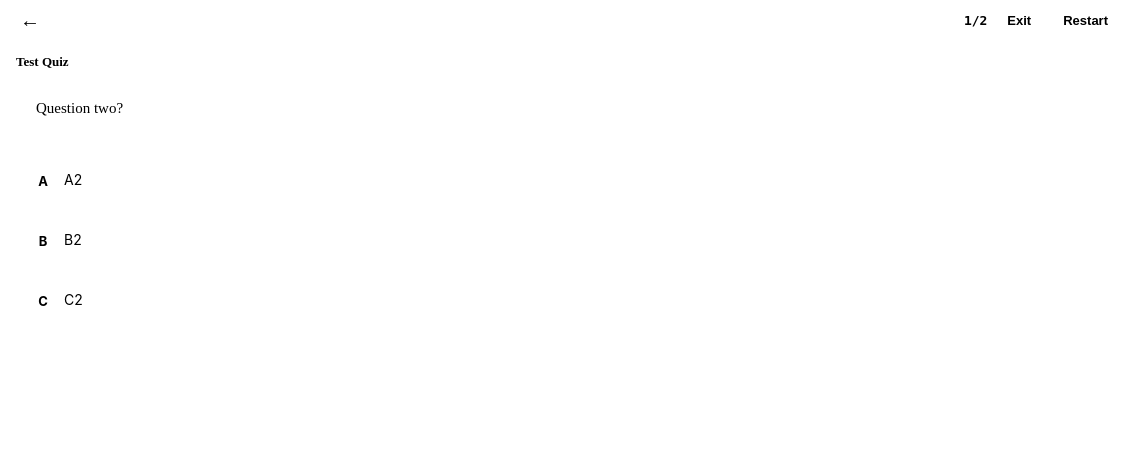
Test case: QuizEngine completion (BUG A results screen + BUG B duplicate guard) › clears saved progress when the quiz completes
Click the button "A A2" at point(43, 181), box left=16, top=156, right=1120, bottom=206
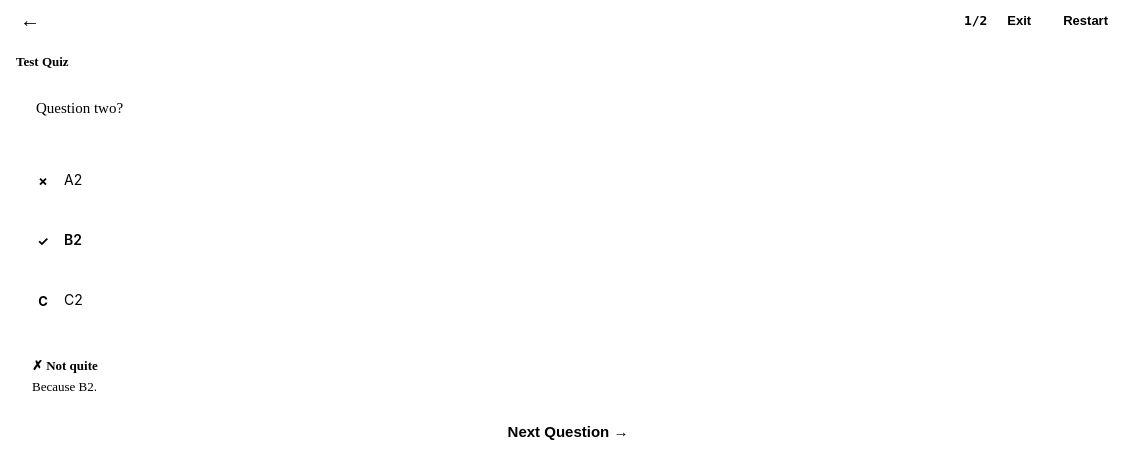
Click the button "Next Question →" at point(568, 431), box left=32, top=409, right=1104, bottom=454
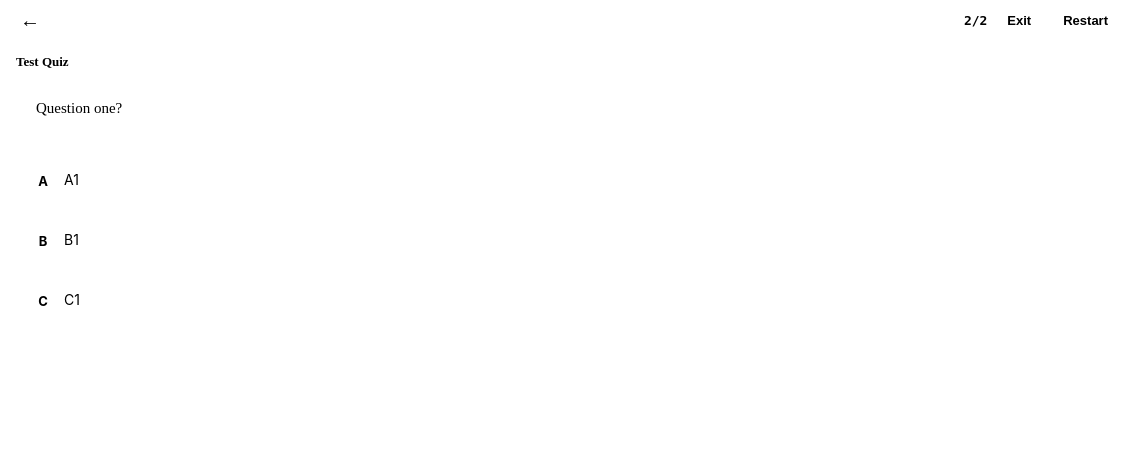
Click the button "A A1" at point(43, 181), box left=16, top=156, right=1120, bottom=206
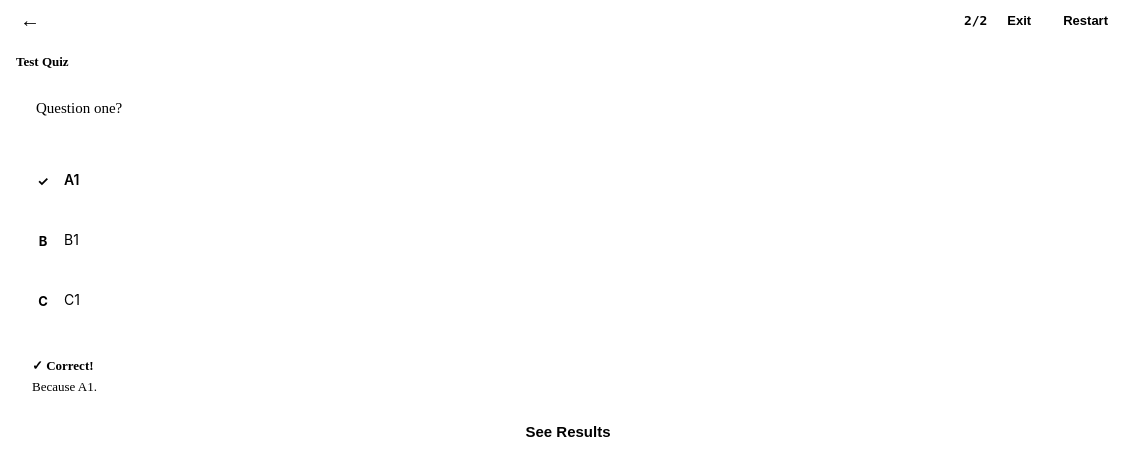
Click the button "See Results" at point(568, 431), box left=32, top=409, right=1104, bottom=454
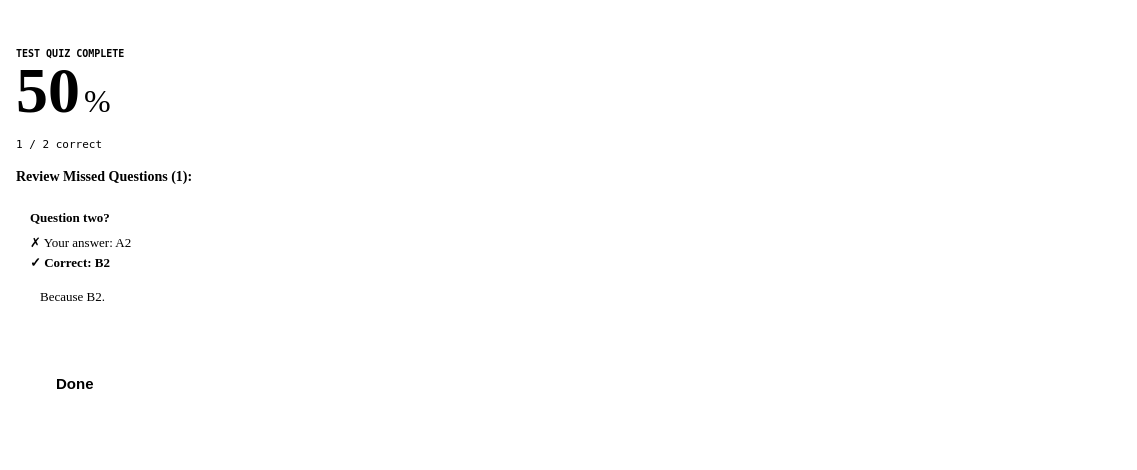
Expected: the text "Test Quiz complete" is shown, left=16, top=48, right=124, bottom=59
